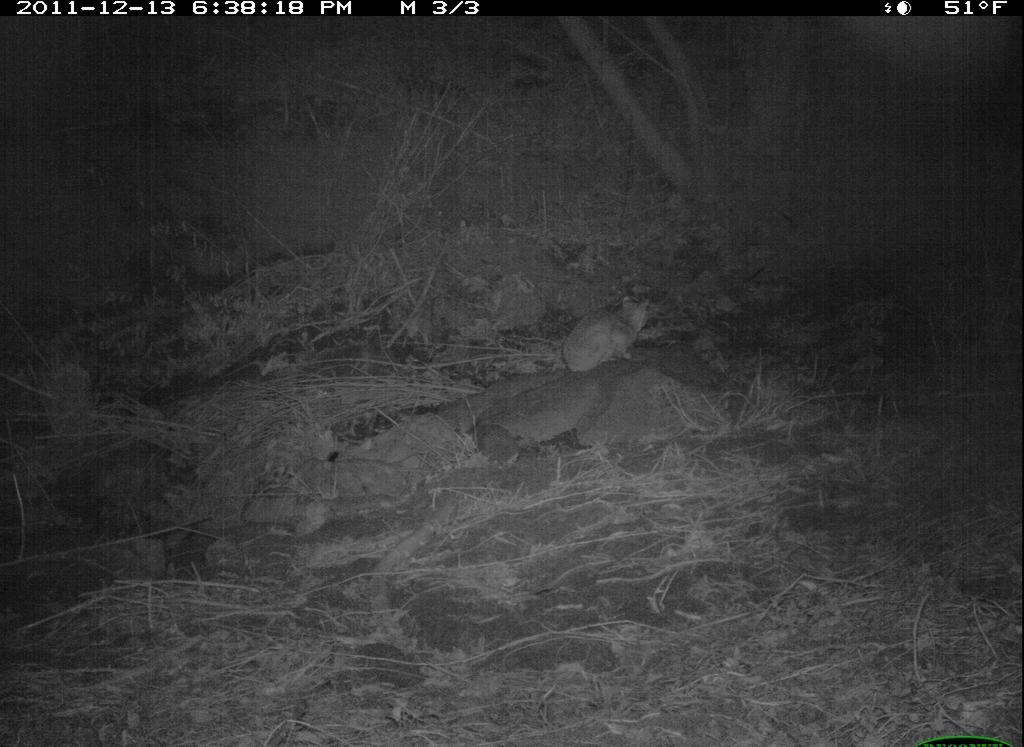bobcat: (548, 283, 670, 388)
